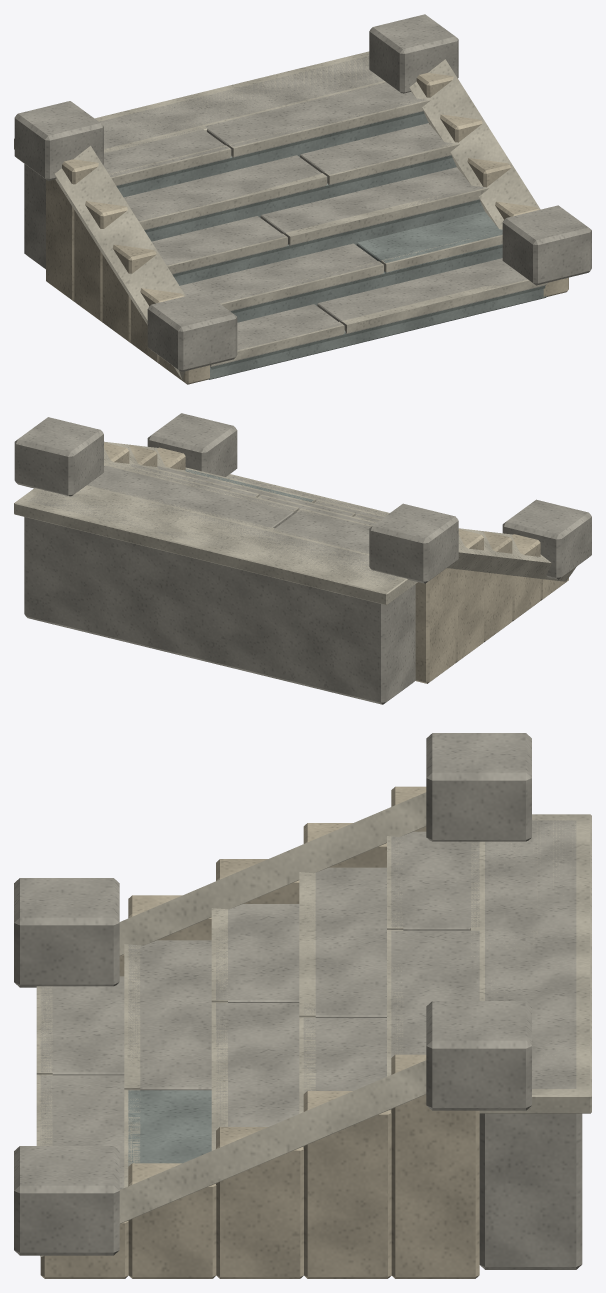
3 renders of one model, top to bottom at view 1: azimuth 30°, elevation 25°; view 2: azimuth 150°, elevation 25°; view 3: azimuth 270°, elevation 25°, orthographic. The views are drawn at different scales.
Parts seen in each view (by area): view 1: C09_stone, C09_light, C09_cool, C09_relief, C09_joint; view 2: C09_stone, C09_light, C09_relief, C09_cool; view 3: C09_stone, C09_relief, C09_light, C09_cool.
Part boxes in pixels (x1,y1,x2,y2): C09_stone: (14,14,591,371); C09_light: (14,51,547,379); C09_cool: (118,113,546,379); C09_relief: (46,72,568,384); C09_joint: (116,111,545,369); C09_stone: (14,413,591,704); C09_light: (14,441,576,605); C09_relief: (104,442,568,683); C09_cool: (185,469,313,501); C09_stone: (14,733,582,1269); C09_relief: (40,786,479,1278); C09_light: (36,792,591,1256); C09_cool: (128,1090,211,1166).
Bounding box in the file's own units: 2.87 × 1.07 × 2.24.
5 materials, 5 textured.
